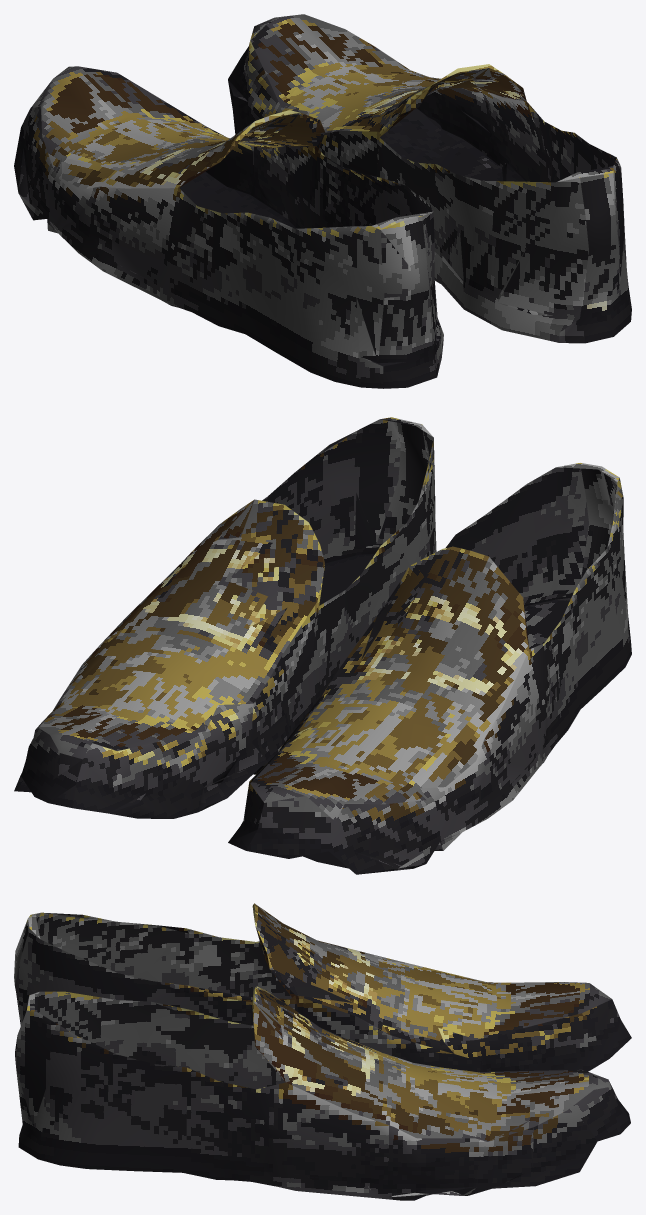
The model's file is loafers.glb.
The picture shows the model from 3 angles, top to bottom: view 1: azimuth 30°, elevation 25°; view 2: azimuth 150°, elevation 25°; view 3: azimuth 270°, elevation 25°; orthographic projection. The views are drawn at different scales.
Visible parts, largest first — view 1: mesh; view 2: mesh; view 3: mesh.
Boxes of the visible parts, box(x1,y1,x2,y2) form: mesh: box(14, 14, 631, 388); mesh: box(14, 417, 631, 874); mesh: box(14, 903, 631, 1200).
Size of the model in its own units: 0.1803 by 0.08 by 0.266.
1 material, 1 textured.
